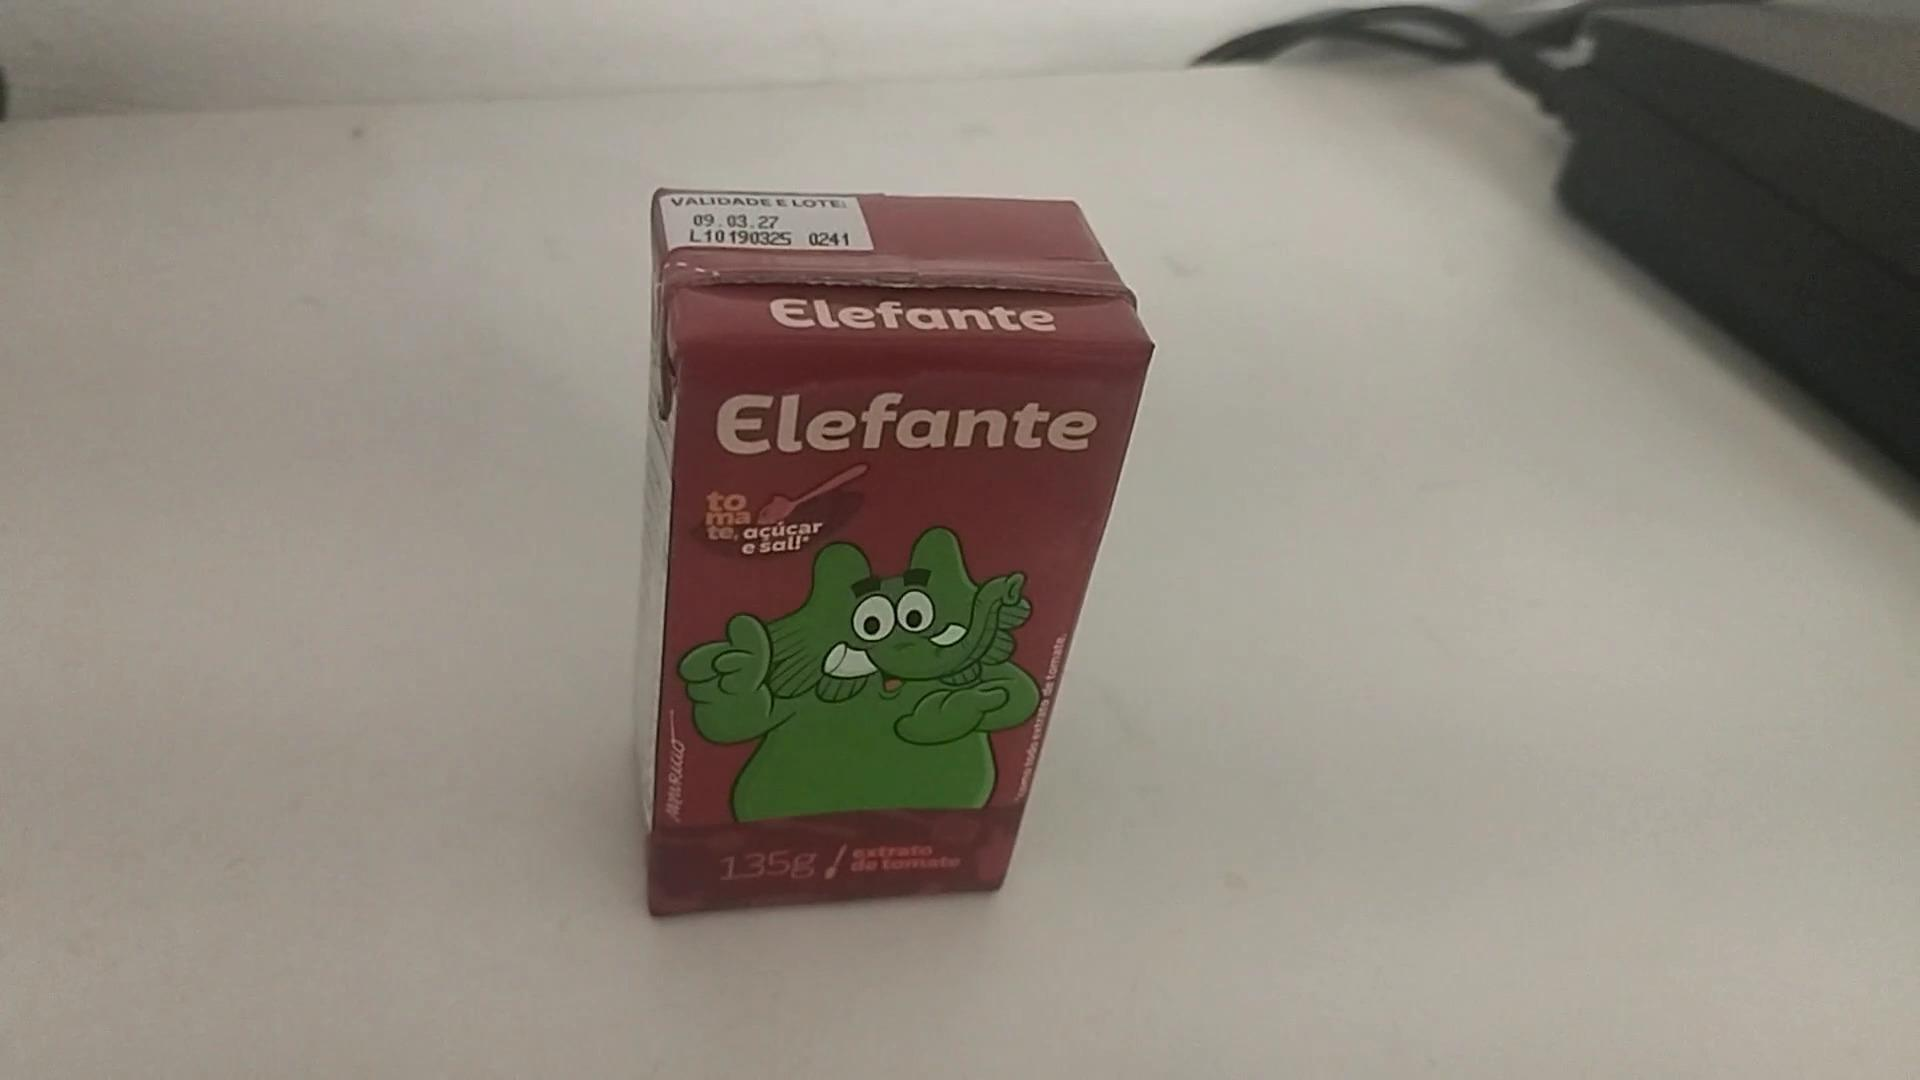tomate: (624, 183, 1166, 914)
